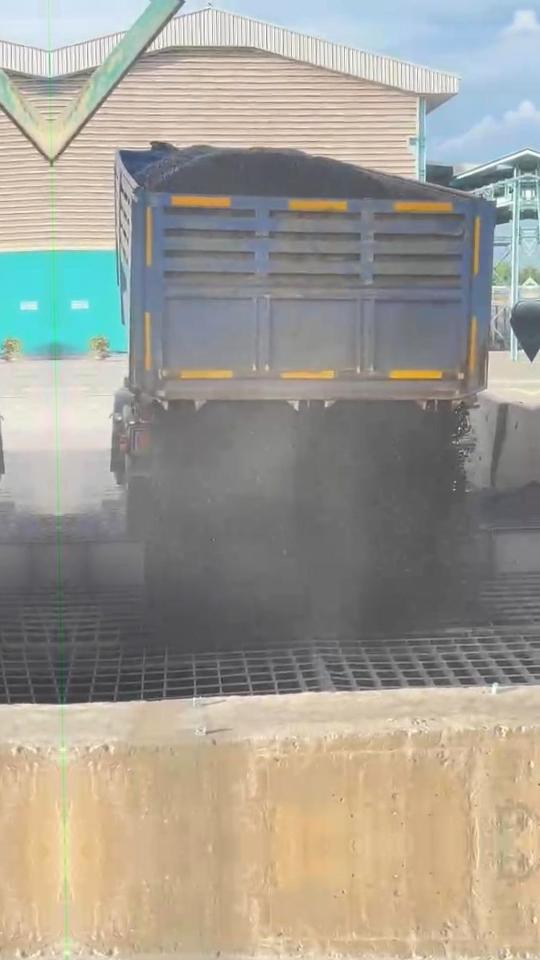gravel: (145, 401, 469, 642), (135, 144, 403, 198), (61, 493, 125, 545)
